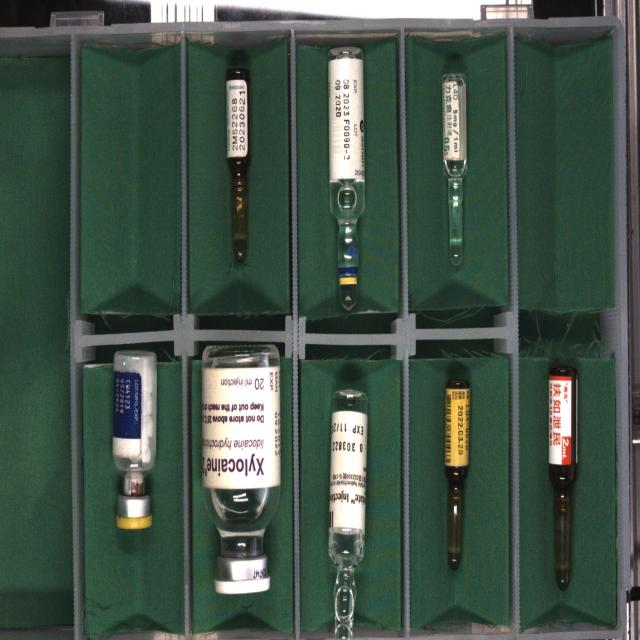Vials: (202, 346, 281, 594), (113, 351, 157, 530)
